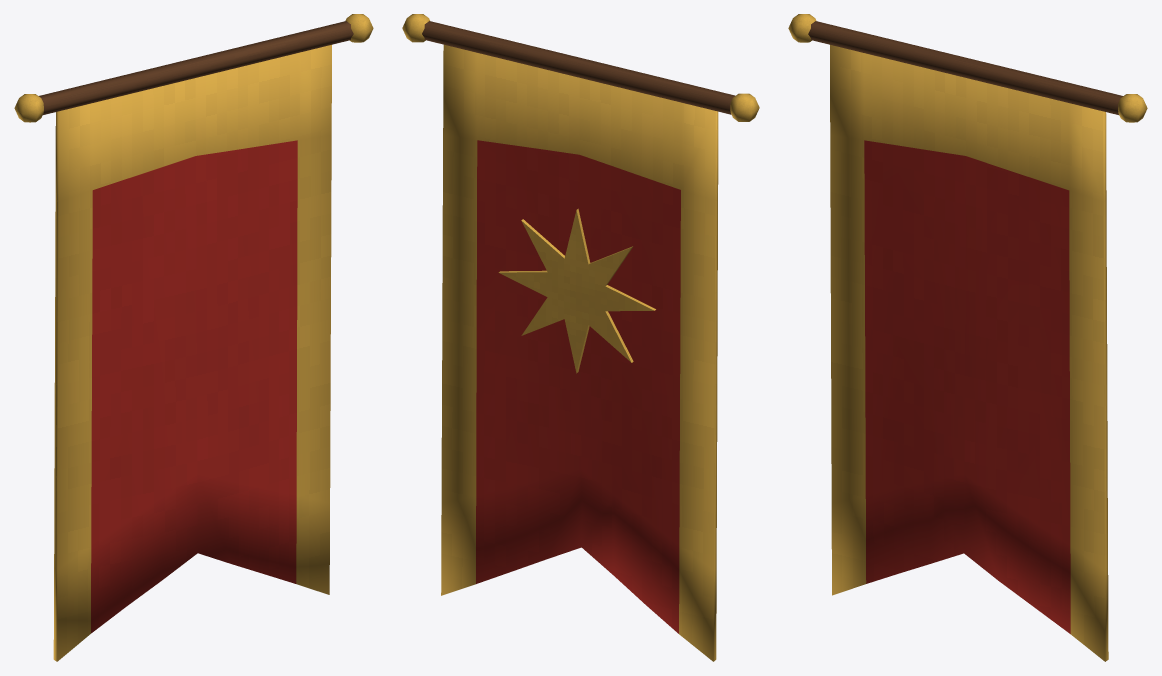
The model's file is drappo_muro_acheo.glb.
3 views of the same model, side by side, from view 1: azimuth 30°, elevation 25°; view 2: azimuth 150°, elevation 25°; view 3: azimuth 330°, elevation 25° (orthographic).
Visible parts, largest first — view 1: SM_drappo_muro_acheo; view 2: SM_drappo_muro_acheo; view 3: SM_drappo_muro_acheo.
Part boxes in pixels (x1,y1,x2,y2): SM_drappo_muro_acheo: (14, 14, 373, 661); SM_drappo_muro_acheo: (402, 14, 759, 661); SM_drappo_muro_acheo: (788, 14, 1147, 661).
Bounding box in the file's own units: 1.03 × 1.61 × 0.08.
Materials: 1 (1 with a texture image).
